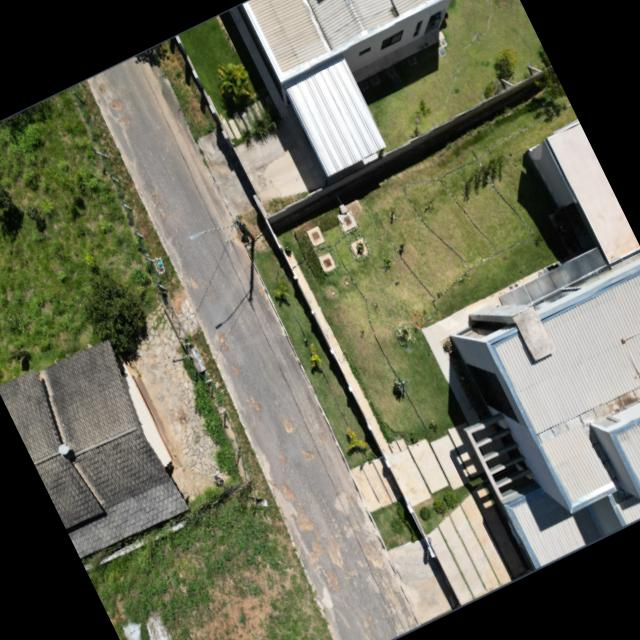crack: (381, 569, 403, 610), (361, 539, 382, 567), (149, 190, 166, 218), (327, 536, 342, 566), (308, 542, 324, 567), (332, 489, 348, 513), (257, 286, 272, 307), (296, 512, 313, 530), (321, 586, 333, 609), (326, 569, 338, 590), (206, 281, 217, 303), (281, 485, 297, 499), (282, 417, 294, 434), (246, 397, 260, 411), (215, 330, 225, 348), (189, 273, 200, 289), (106, 98, 121, 109), (302, 449, 314, 458), (278, 454, 285, 467), (121, 115, 129, 123), (98, 83, 104, 93), (364, 619, 371, 627), (236, 367, 240, 374)
old_road: (86, 57, 420, 640)
